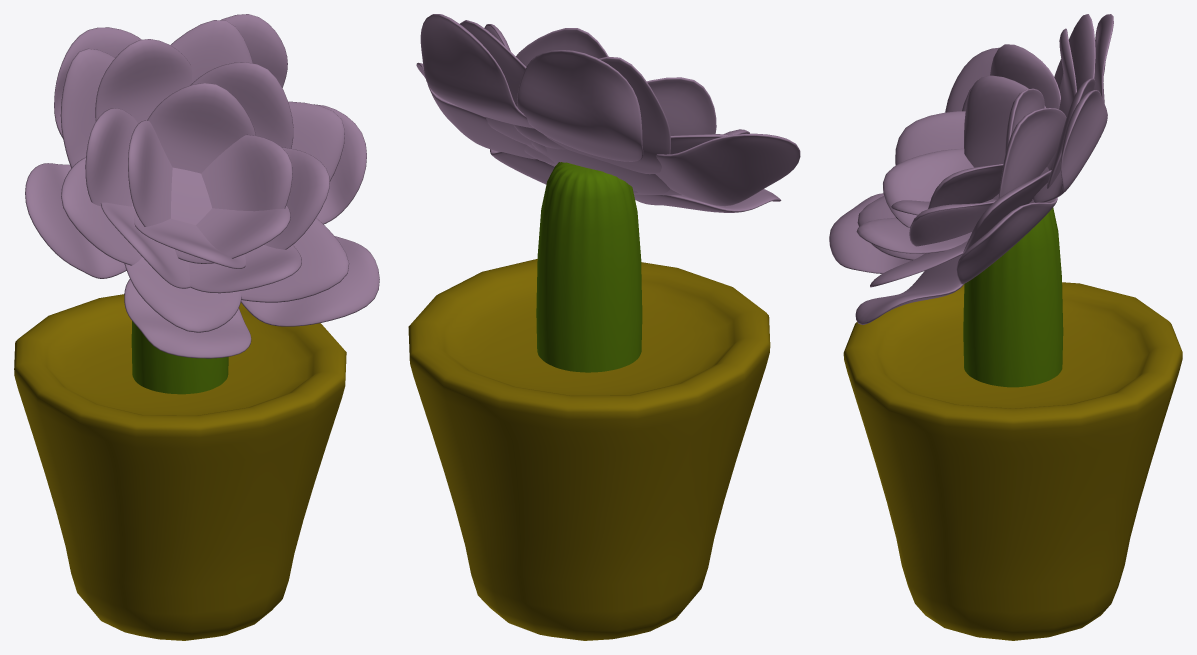
The model's file is Potted Flower.fbx.
3 renders of one model, left to right at view 1: azimuth 30°, elevation 25°; view 2: azimuth 150°, elevation 25°; view 3: azimuth 270°, elevation 25°, orthographic. The views are drawn at different scales.
Visible parts, largest first — view 1: pCube9; view 2: pCube9; view 3: pCube9.
Boxes of the visible parts, left/top/right/bottom form: pCube9: left=14, top=14, right=379, bottom=640; pCube9: left=408, top=14, right=800, bottom=640; pCube9: left=829, top=14, right=1182, bottom=640.
Bounding box in the file's own units: 4.56 × 7.2 × 3.98.
